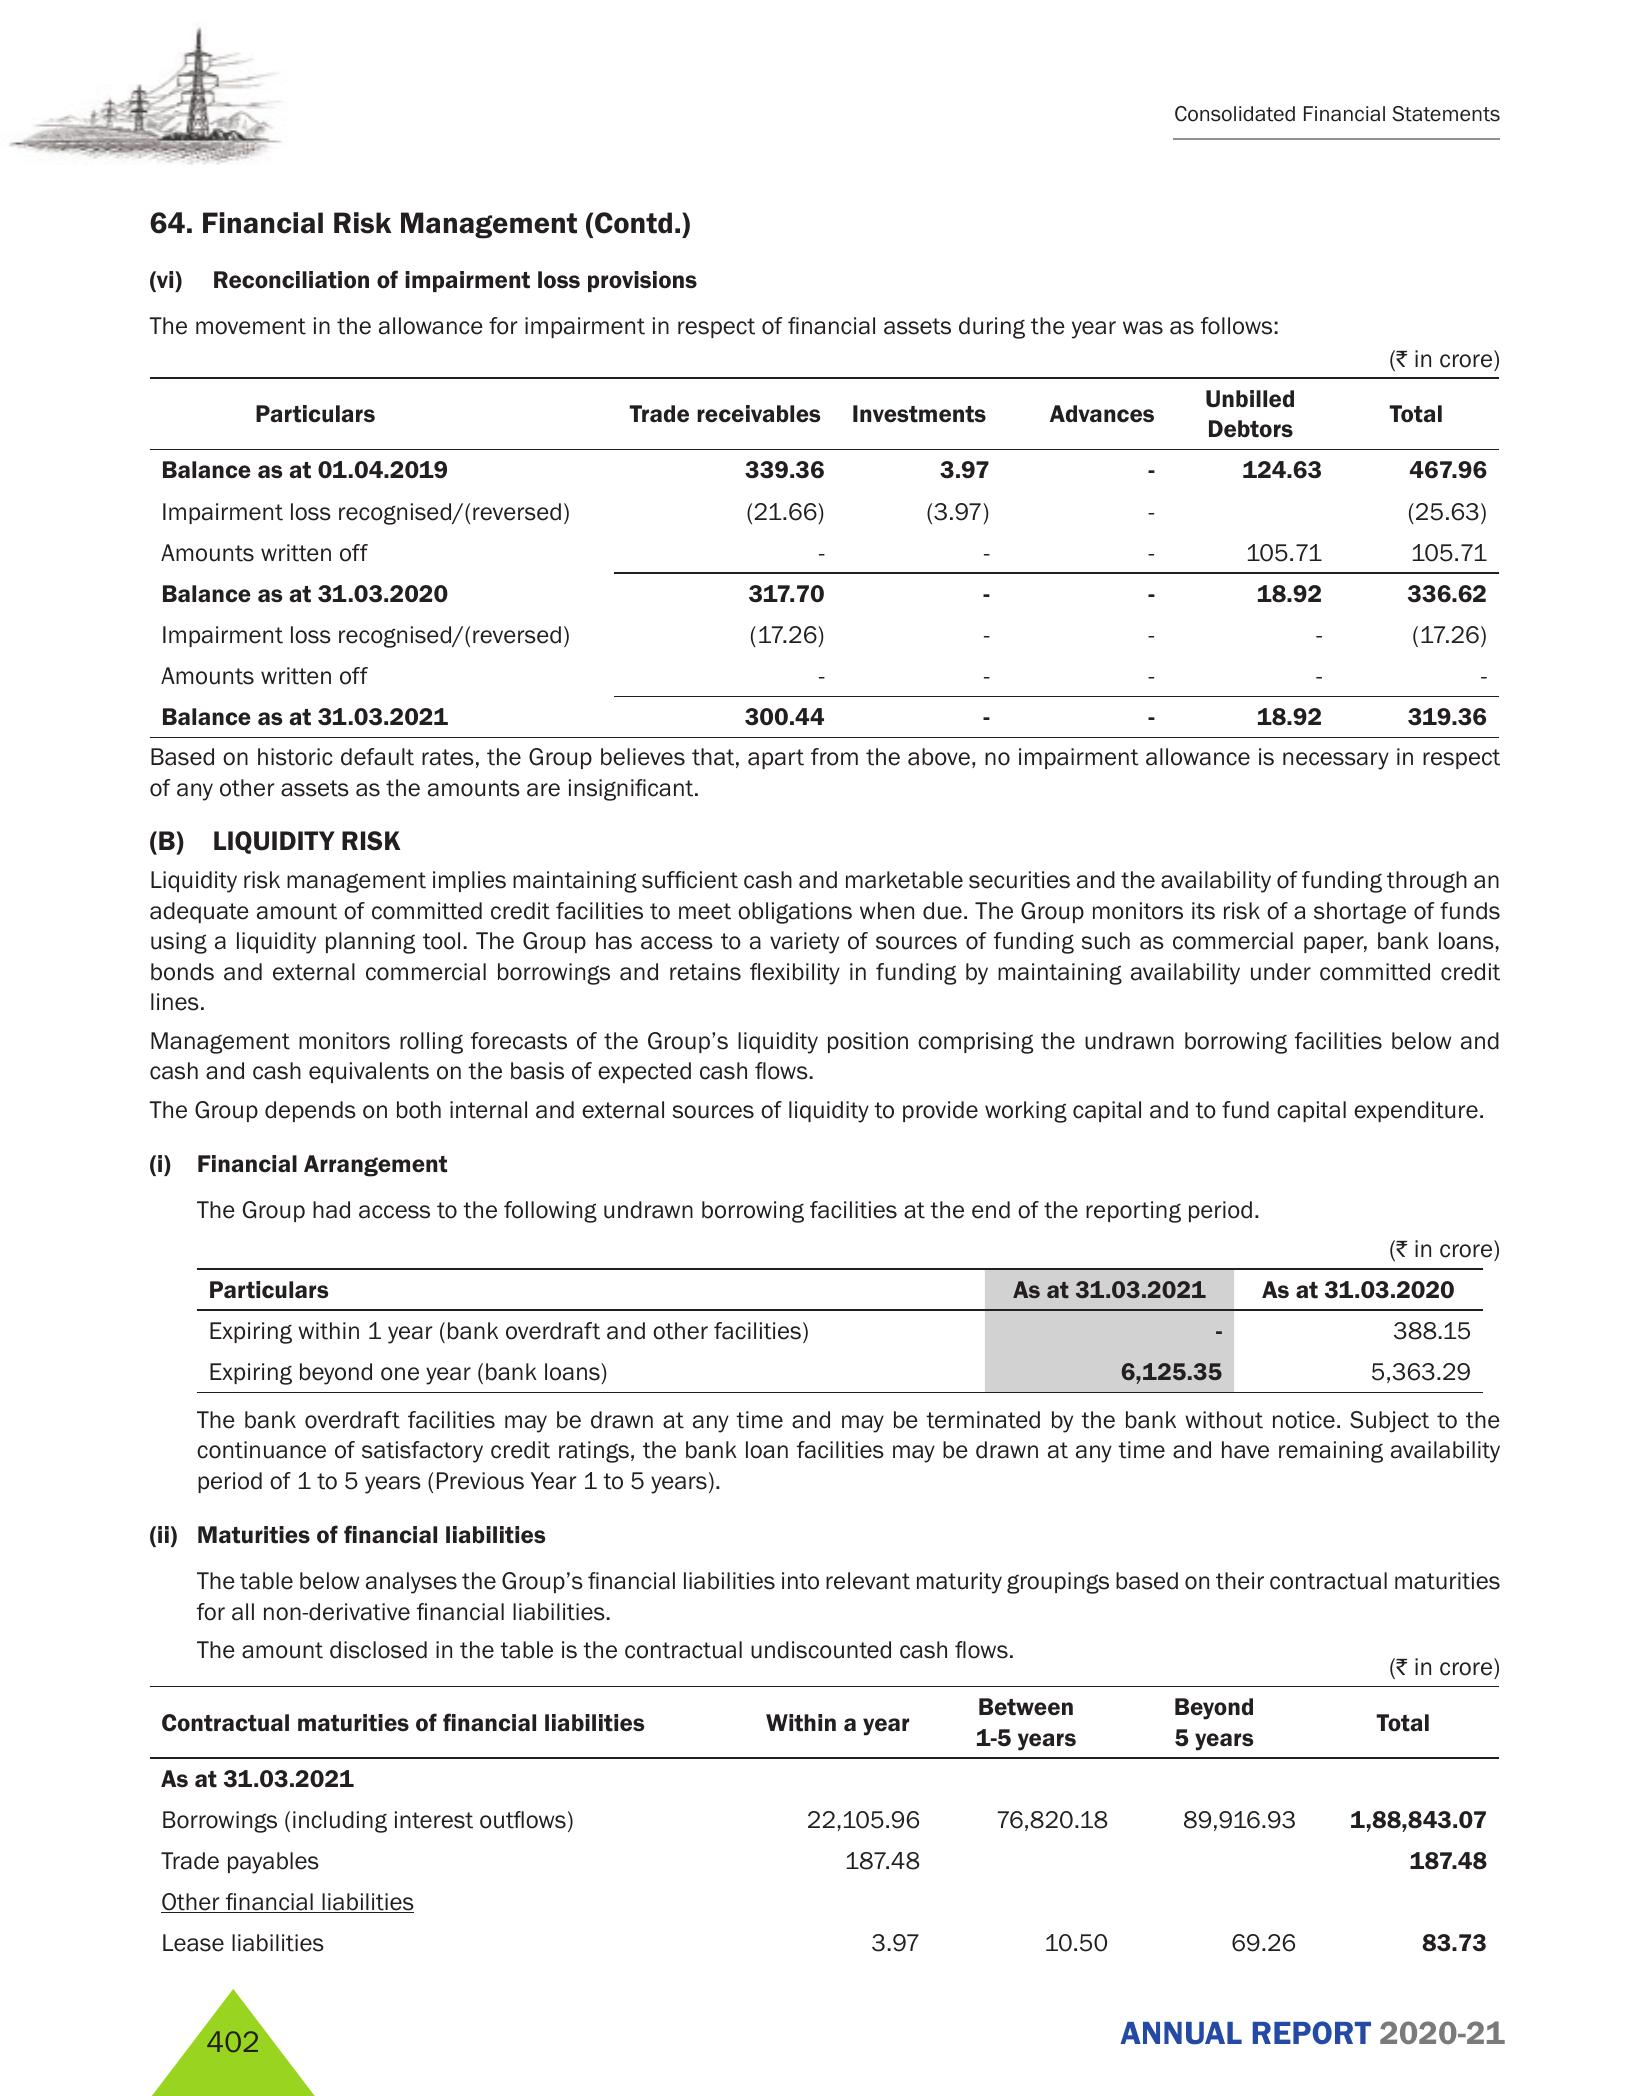Footer: (0, 1965, 1650, 2096)
Header: (0, 0, 1650, 180)
Table: (134, 373, 1533, 740), (111, 1676, 1475, 1974), (126, 1257, 1507, 1417)
